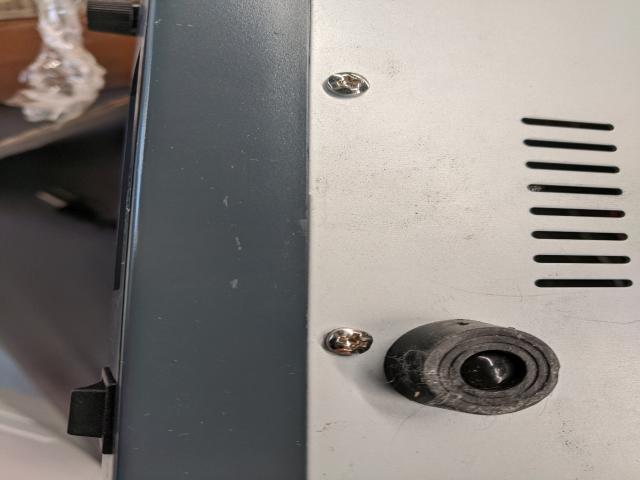CRS: (323, 328, 374, 358), (323, 71, 372, 99)
